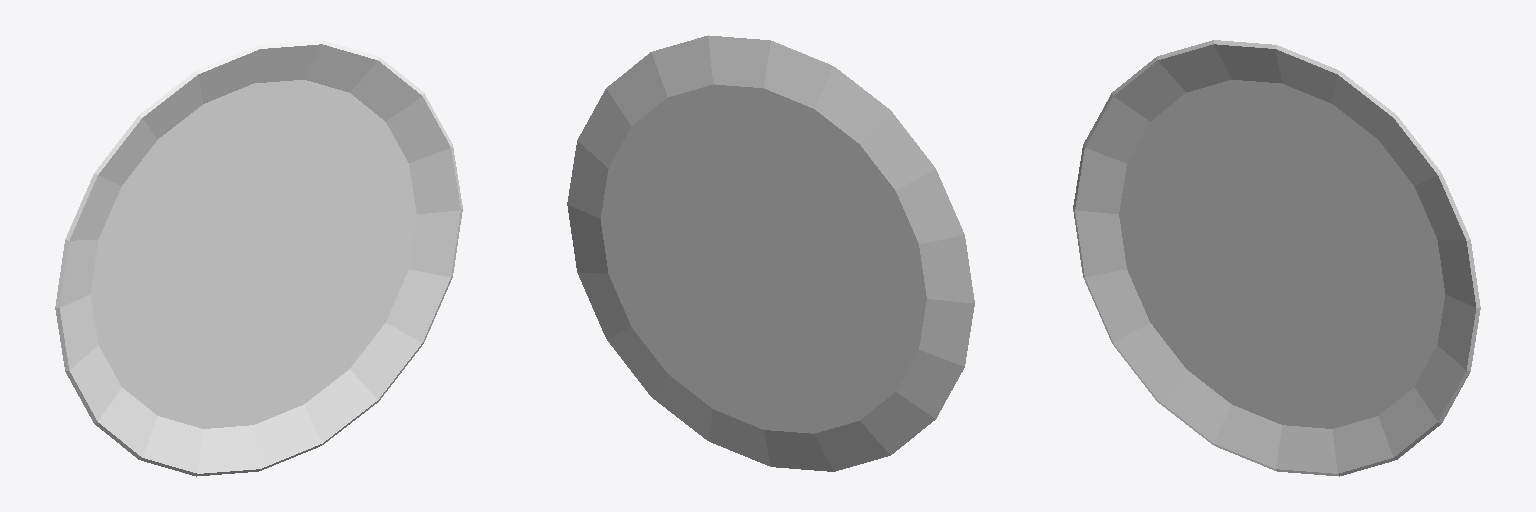
The model's file is Plate_01(1).obj.
The picture shows the model from 3 angles: view 1: azimuth 30°, elevation 25°; view 2: azimuth 150°, elevation 25°; view 3: azimuth 330°, elevation 25°; orthographic projection.
Parts seen in each view (by area): view 1: pCylinder4; view 2: pCylinder4; view 3: pCylinder4.
Boxes of the visible parts, box(x1,y1,x2,y2) form: pCylinder4: box(55, 40, 462, 476); pCylinder4: box(567, 35, 974, 471); pCylinder4: box(1073, 40, 1480, 476).
Size of the model in its own units: 258 by 258 by 9.36.